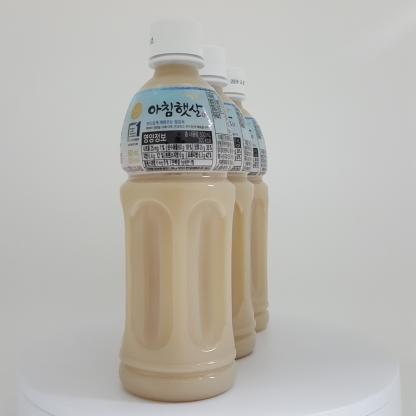------500ML: (119, 17, 237, 402)
